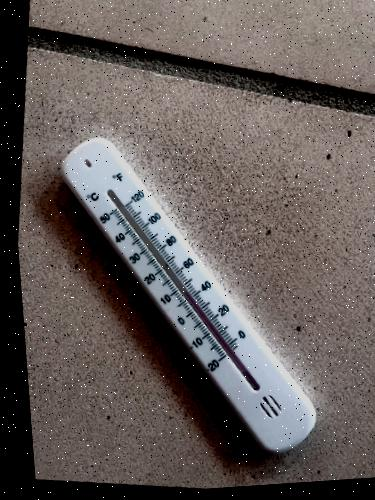thermo: (58, 130, 318, 452)
